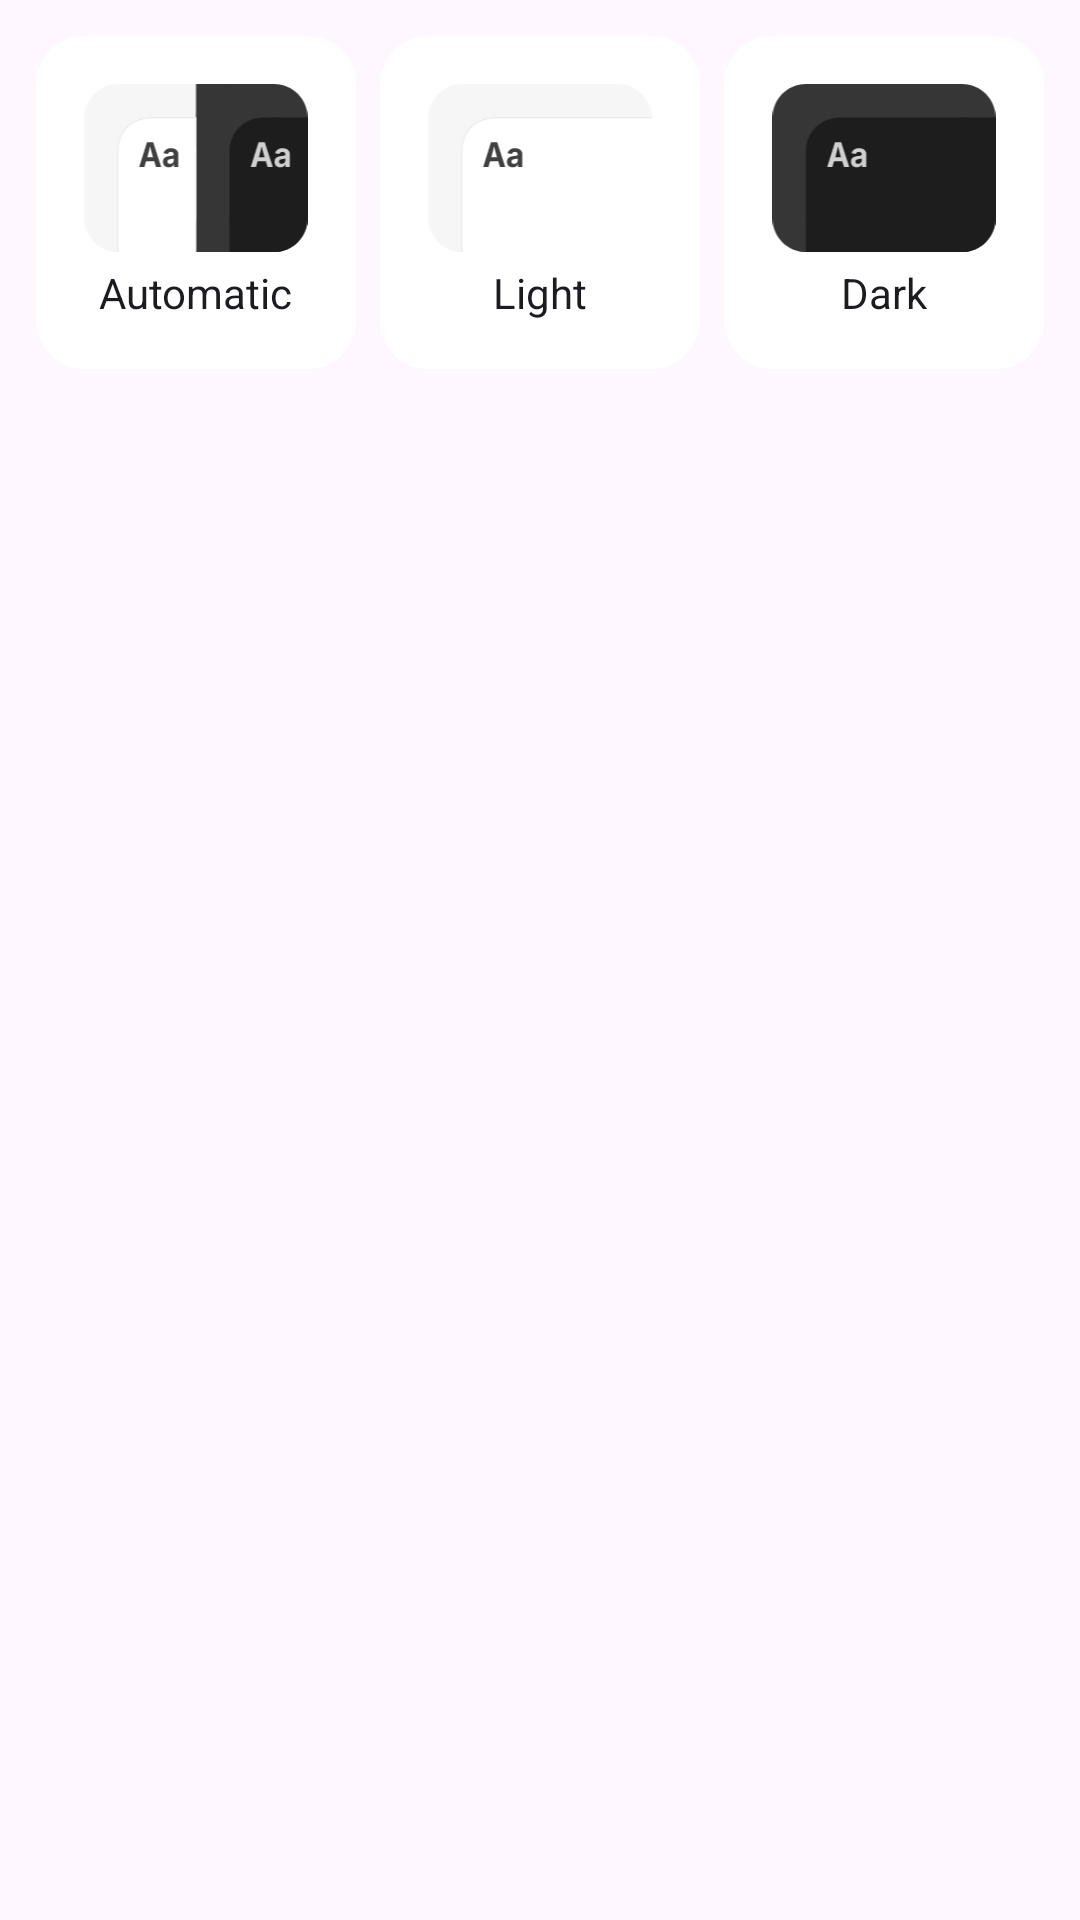

Screen size 1080*1920. Icon name, then its center in pixels as (x,y):
theme system: (223,168)
